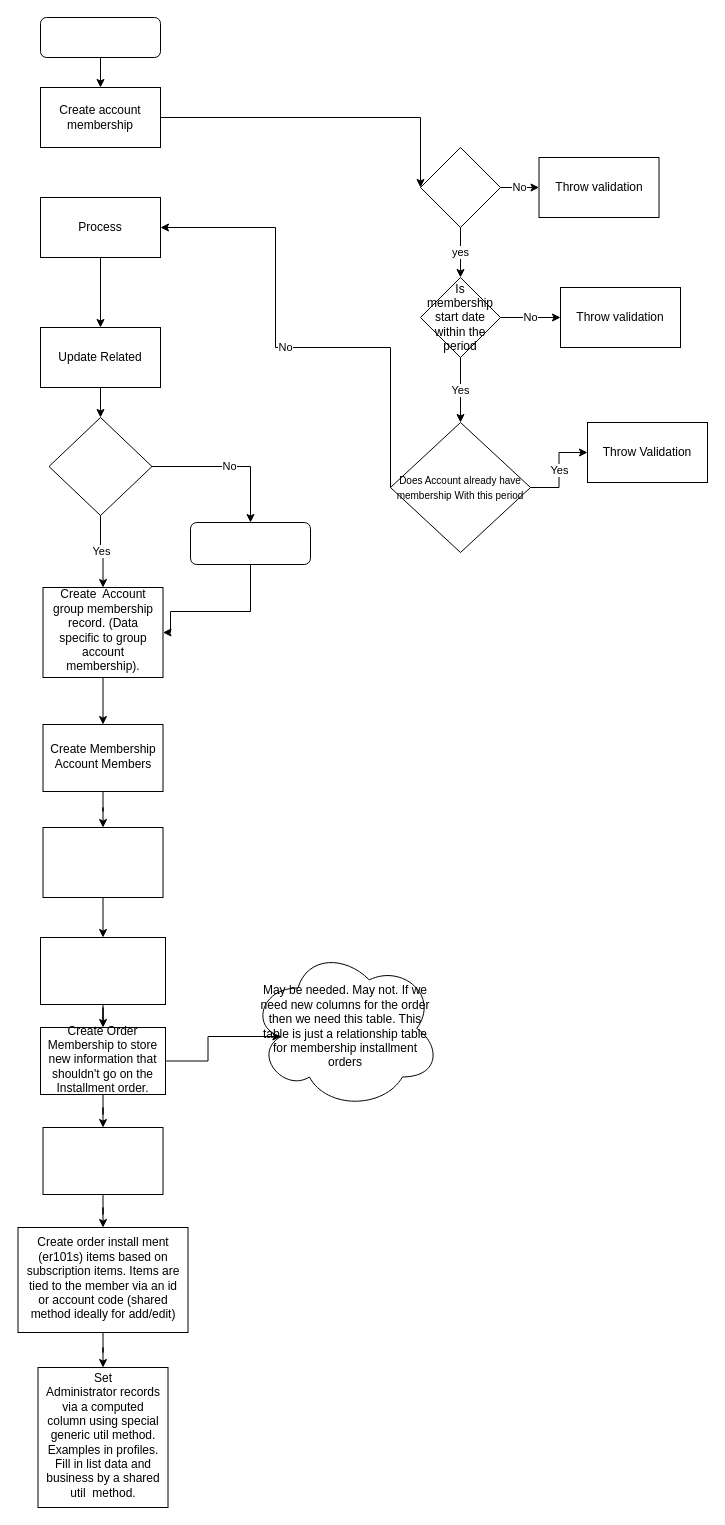
Image size: 725x1525. Some labels were removed from this diagram. The box of each missing label's shape, as (x1, y1, x2, y2) in pixels:
Add Group Membership: (40, 16, 160, 58)
Are all required fields filled in?: (420, 146, 500, 228)
Create account membership Items: (42, 826, 163, 898)
Create order (er100) installments based on the period: (40, 936, 166, 1004)
Create order members based account members: (42, 1126, 163, 1194)
Create Organization Level Membership: (190, 522, 310, 564)
Is there an organization level membership?: (48, 416, 152, 516)
